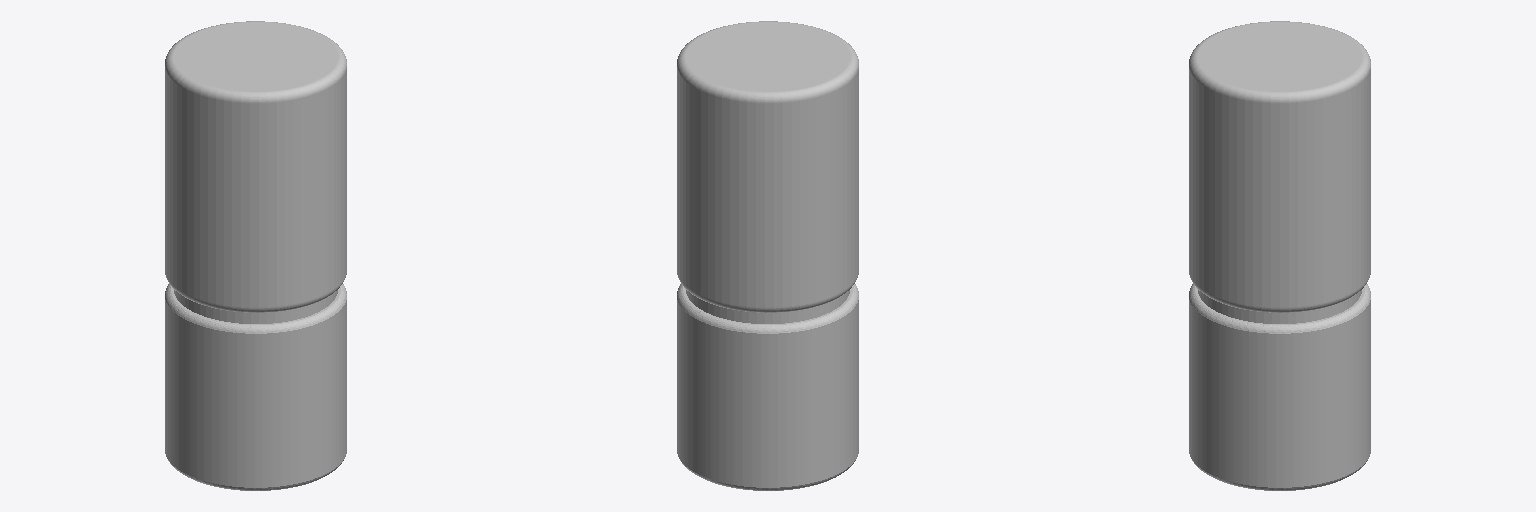
The model's file is tallDarkFlatCylinder.obj.
3 views of the same model, side by side, from view 1: azimuth 30°, elevation 25°; view 2: azimuth 150°, elevation 25°; view 3: azimuth 270°, elevation 25° (orthographic).
Visible parts, largest first — view 1: Cylinder.002, Cylinder, Cylinder.001; view 2: Cylinder.002, Cylinder, Cylinder.001; view 3: Cylinder.002, Cylinder, Cylinder.001.
Boxes of the visible parts, box(x1,y1,x2,y2) form: Cylinder.002: box(165, 21, 346, 312); Cylinder: box(165, 284, 346, 490); Cylinder.001: box(174, 290, 337, 323); Cylinder.002: box(677, 21, 858, 312); Cylinder: box(677, 284, 858, 490); Cylinder.001: box(686, 290, 849, 323); Cylinder.002: box(1189, 21, 1370, 312); Cylinder: box(1189, 284, 1370, 490); Cylinder.001: box(1198, 290, 1361, 323).
Size of the model in its own units: 2 by 4.81 by 2.